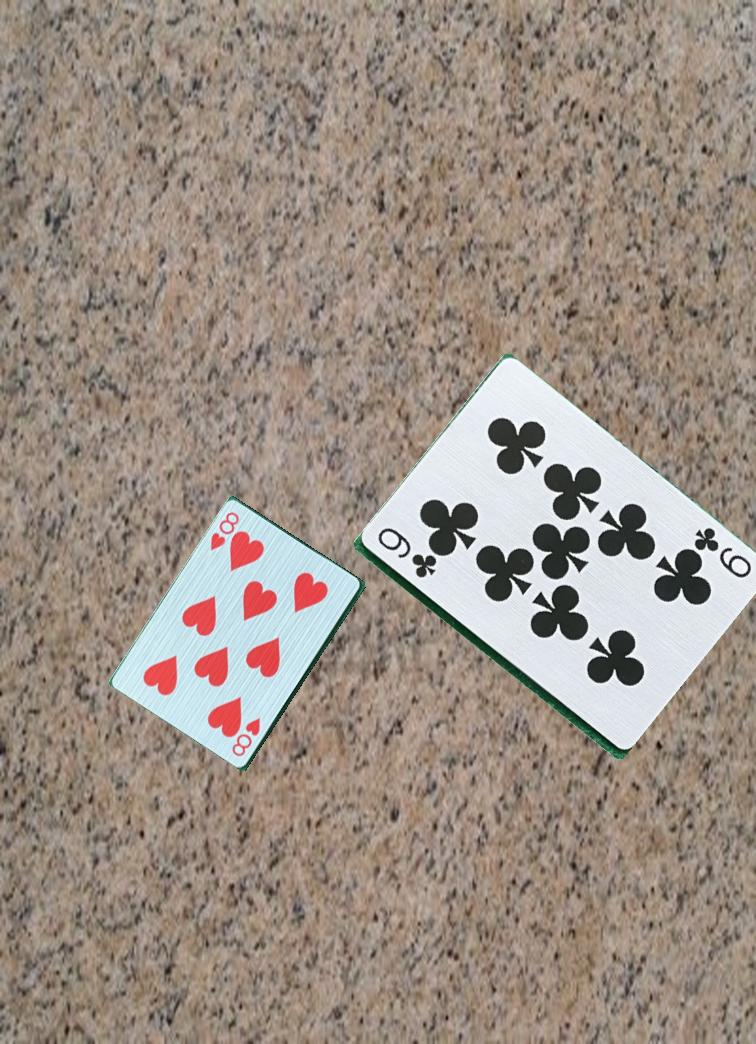8h: (228, 710, 266, 759), (206, 508, 242, 553)
9c: (681, 523, 754, 582), (373, 525, 438, 581)
